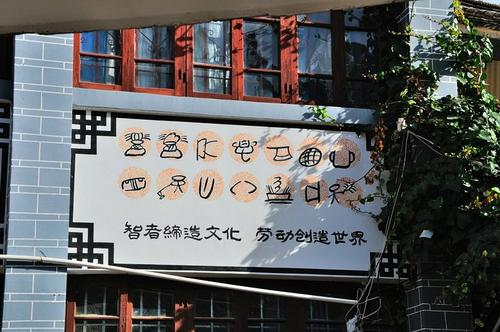chinese: (119, 218, 368, 249)
naxi: (120, 130, 358, 170)
